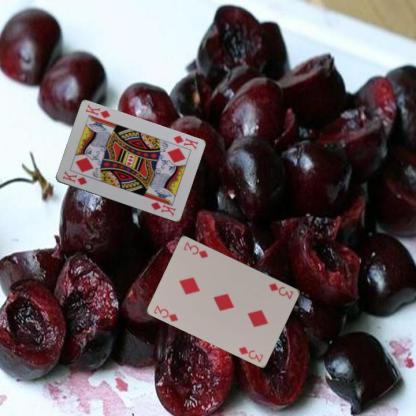3d: (266, 280, 295, 300), (151, 303, 180, 323)
Kd: (60, 168, 88, 187), (170, 133, 199, 151)
